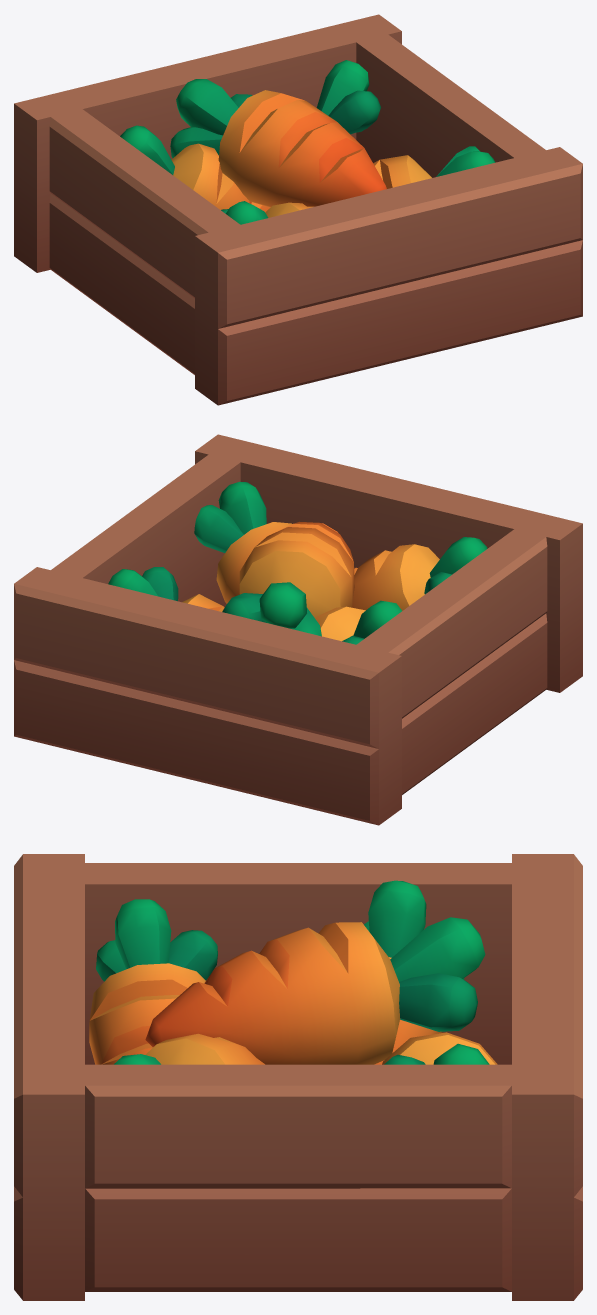
File: fruit_crate_2.glb
3 views of the same model, one above another, from view 1: azimuth 30°, elevation 25°; view 2: azimuth 150°, elevation 25°; view 3: azimuth 270°, elevation 25° (orthographic). The views are drawn at different scales.
Parts seen in each view (by area): view 1: crate_carrots; view 2: crate_carrots; view 3: crate_carrots.
Part boxes in pixels (x1,y1,x2,y2): crate_carrots: (14,14,582,405); crate_carrots: (14,434,582,825); crate_carrots: (14,854,582,1300).
Size of the model in its own units: 0.55 by 0.2594 by 0.55.
Materials: 1 (1 with a texture image).
